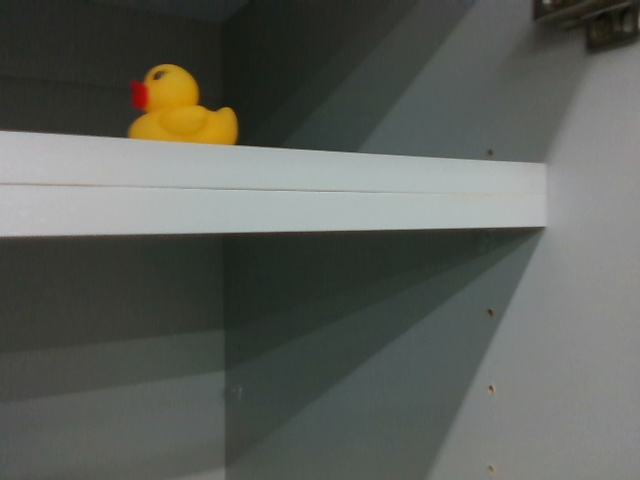duck: (122, 55, 241, 145)
